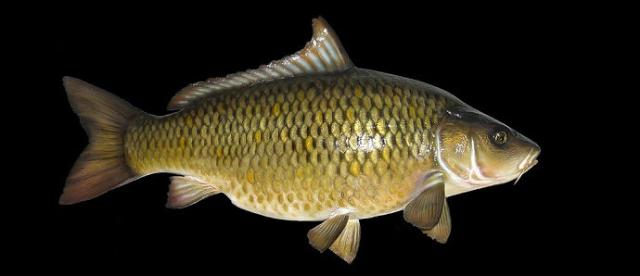Mulut: (518, 130, 556, 180)
Sirip Anal: (162, 170, 214, 214)
Sirip Dada: (398, 180, 458, 248)
Sirip Ekor: (57, 73, 147, 212)
Sirip Perut: (303, 212, 371, 268)
Sirip Punggung: (167, 10, 353, 114)
